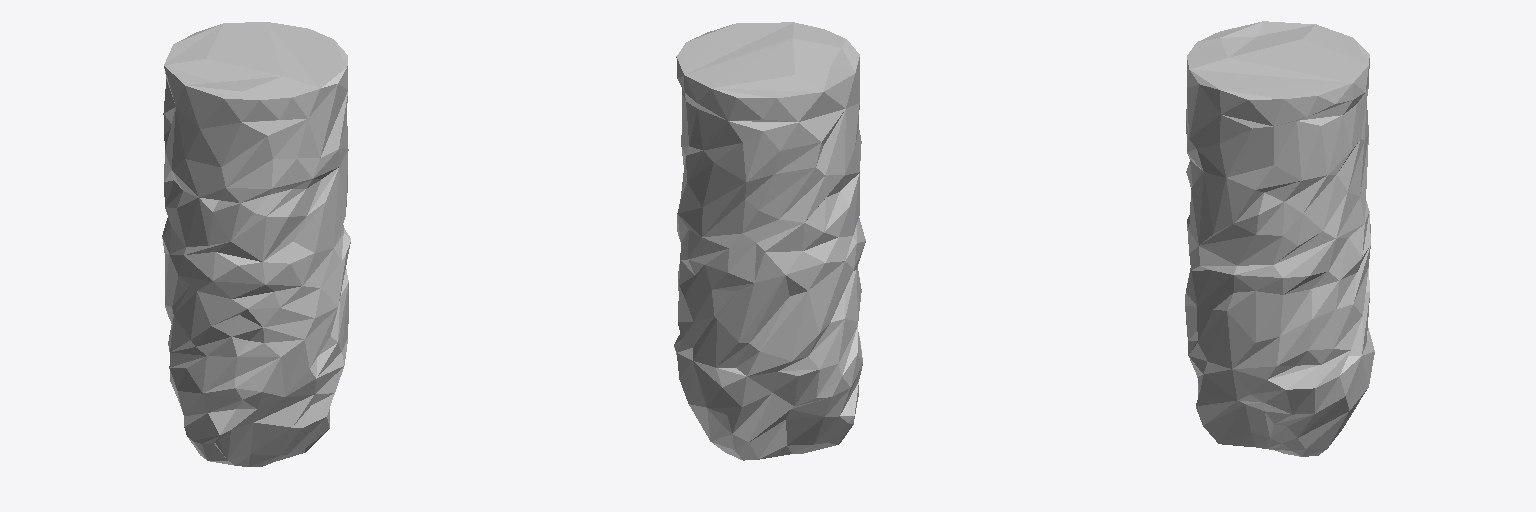
The model's file is Pillar Top.obj.
3 views of the same model, side by side, from view 1: azimuth 30°, elevation 25°; view 2: azimuth 150°, elevation 25°; view 3: azimuth 270°, elevation 25° (orthographic).
Parts seen in each view (by area): view 1: SM_Cave_Rock_PillarTop; view 2: SM_Cave_Rock_PillarTop; view 3: SM_Cave_Rock_PillarTop.
Boxes of the visible parts, box(x1,y1,x2,y2) form: SM_Cave_Rock_PillarTop: box(162, 22, 350, 466); SM_Cave_Rock_PillarTop: box(674, 22, 865, 460); SM_Cave_Rock_PillarTop: box(1185, 21, 1374, 456).
Size of the model in its own units: 281 by 652 by 283.